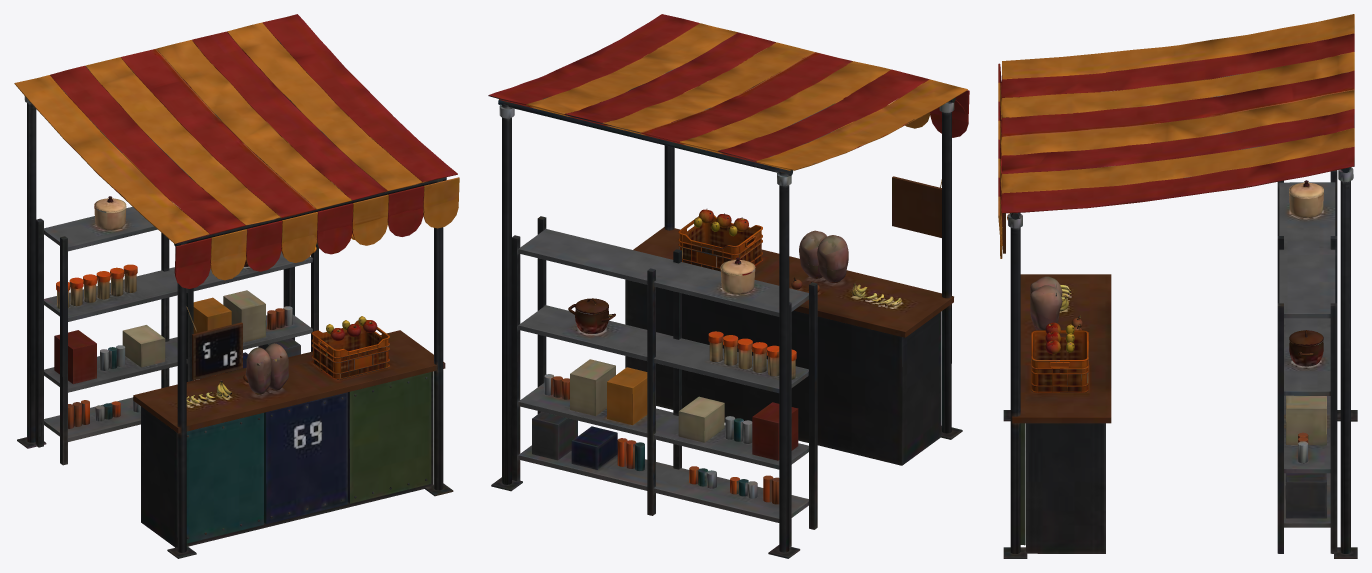
The model's file is market_stall.glb.
3 renders of one model, left to right at view 1: azimuth 30°, elevation 25°; view 2: azimuth 150°, elevation 25°; view 3: azimuth 270°, elevation 25°, orthographic. The views are drawn at different scales.
Parts seen in each view (by area): view 1: market_stall; view 2: market_stall; view 3: market_stall.
Boxes of the visible parts, left/top/right/bottom form: market_stall: left=14, top=14, right=459, bottom=558; market_stall: left=488, top=14, right=969, bottom=558; market_stall: left=998, top=14, right=1357, bottom=558.
Size of the model in its own units: 2.1 by 2.55 by 2.1.
Materials: 2 (2 with a texture image).
